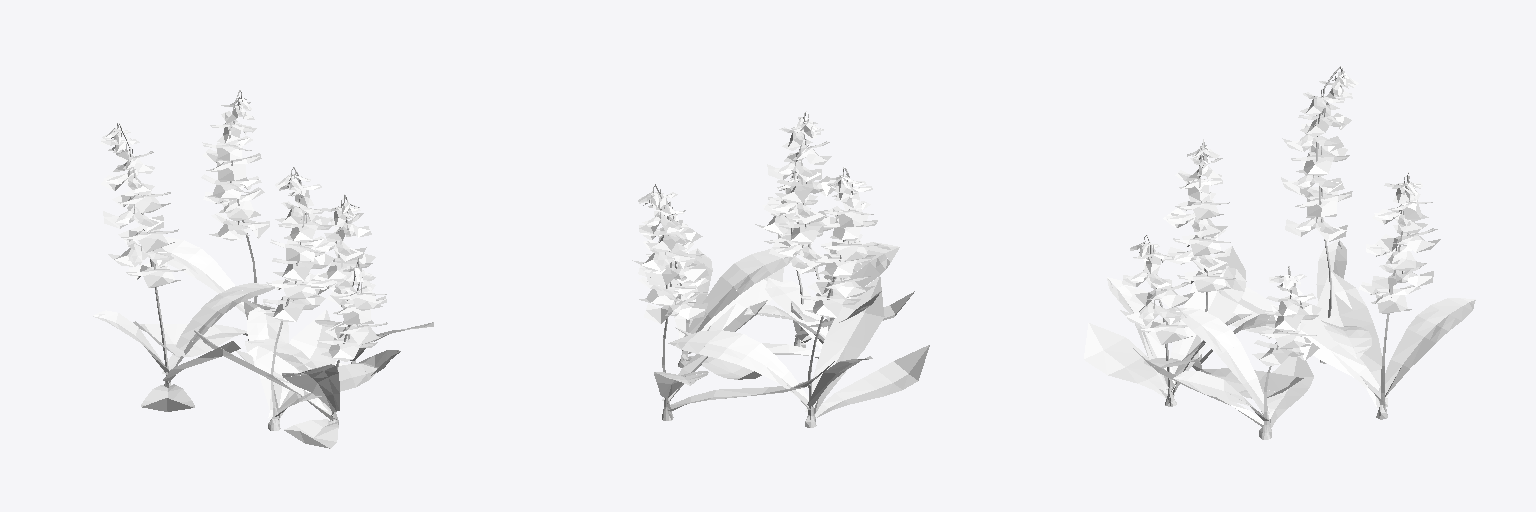
The model's file is Orchid_Model_0.obj.
3 views of the same model, side by side, from view 1: azimuth 30°, elevation 25°; view 2: azimuth 150°, elevation 25°; view 3: azimuth 270°, elevation 25° (orthographic).
Parts seen in each view (by area): view 1: Foliage; view 2: Foliage; view 3: Foliage.
Boxes of the visible parts, x1,y1,x2,y2 form: Foliage: [93, 90, 433, 448]; Foliage: [632, 111, 929, 427]; Foliage: [1084, 66, 1475, 439].
Bounding box in the file's own units: 1.02 × 1 × 1.29.